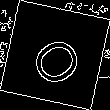O_NE: (22, 23, 88, 87)
